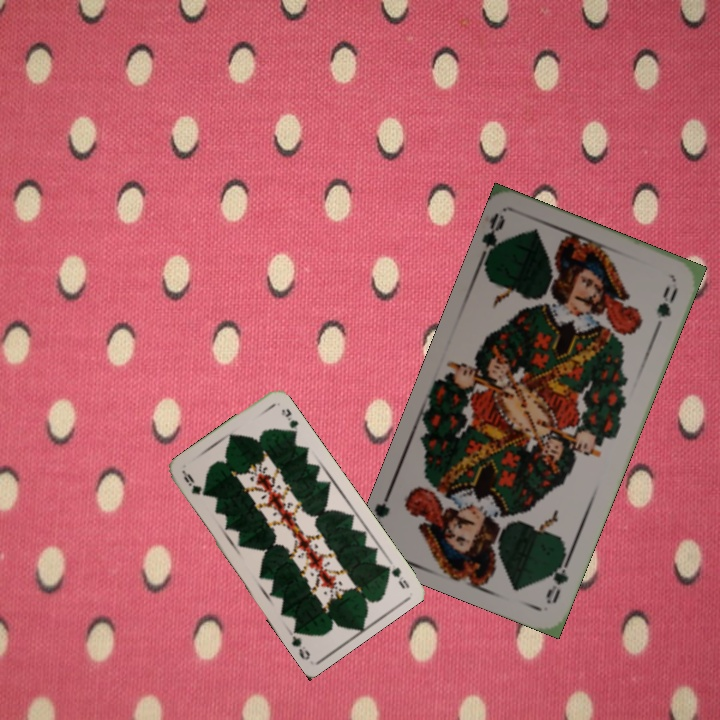G9: (380, 560, 412, 591), (179, 469, 203, 498)
GO: (474, 210, 509, 269), (541, 548, 574, 607)
